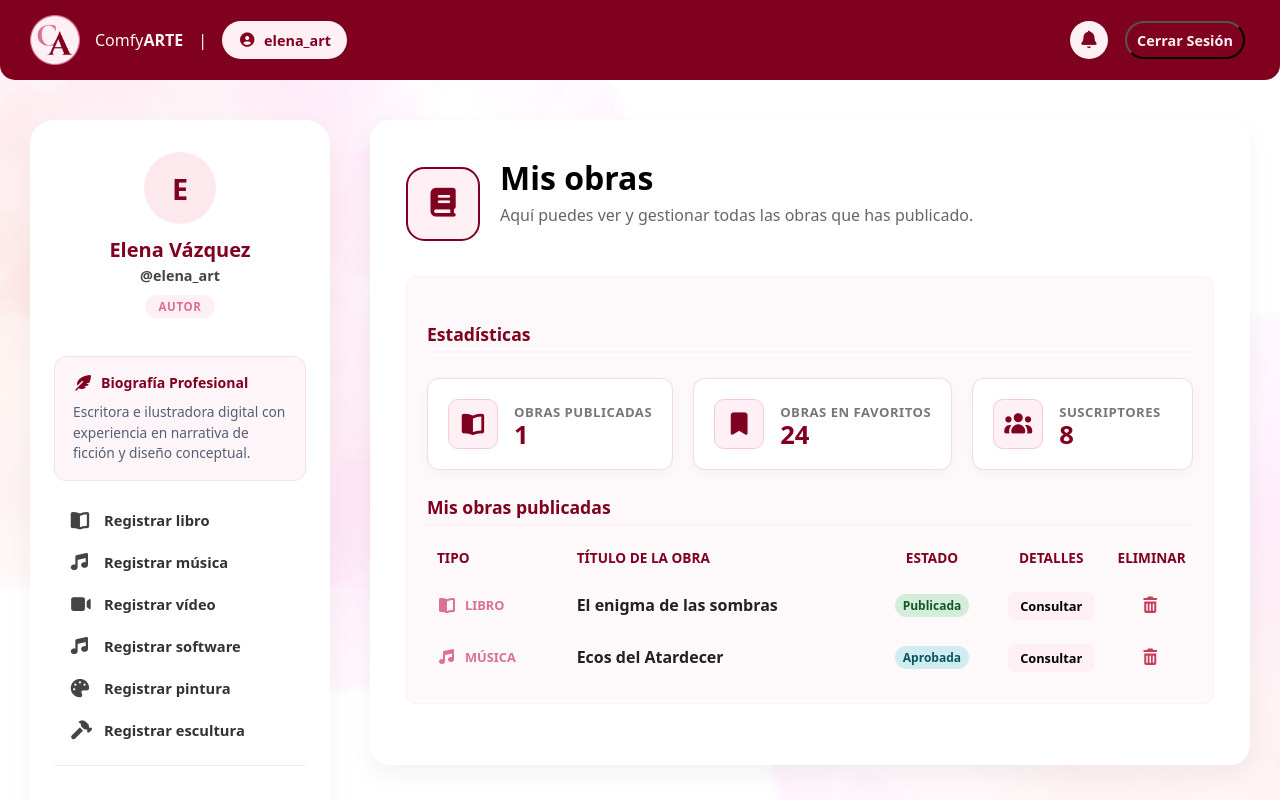
Test: Panel Principal › Vista de Autor › permite eliminar una obra
Click the button with class "btn-delete-plain" in the row of "El enigma de las sombras" at (1150, 605), box [1130,591,1170,619]
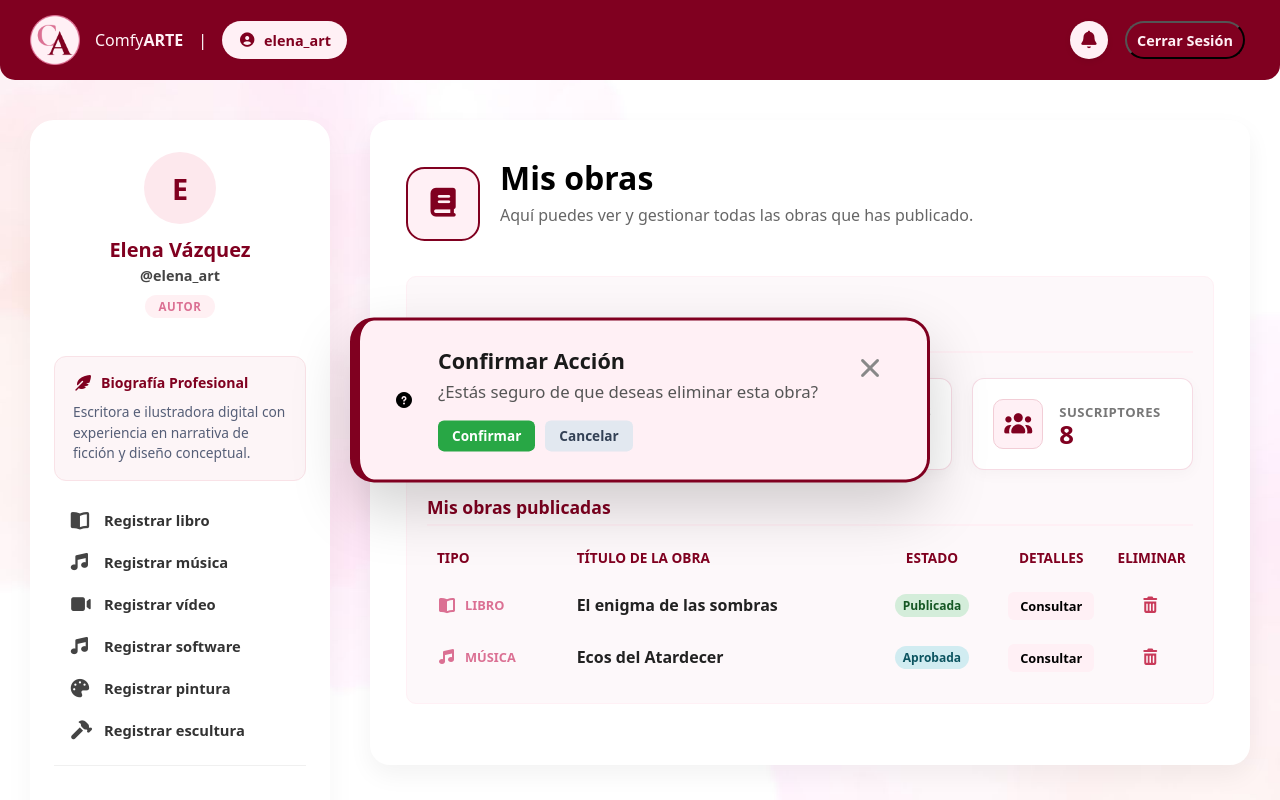
Expected: the element that starts with "Confirmar Acción" is shown, [350,317,930,482]
Expected: the text "¿Estás seguro de que deseas eliminar esta obra?" is shown, [438,380,823,405]
Click the button with class "btn-confirm" at (487, 437), box [438,421,535,452]
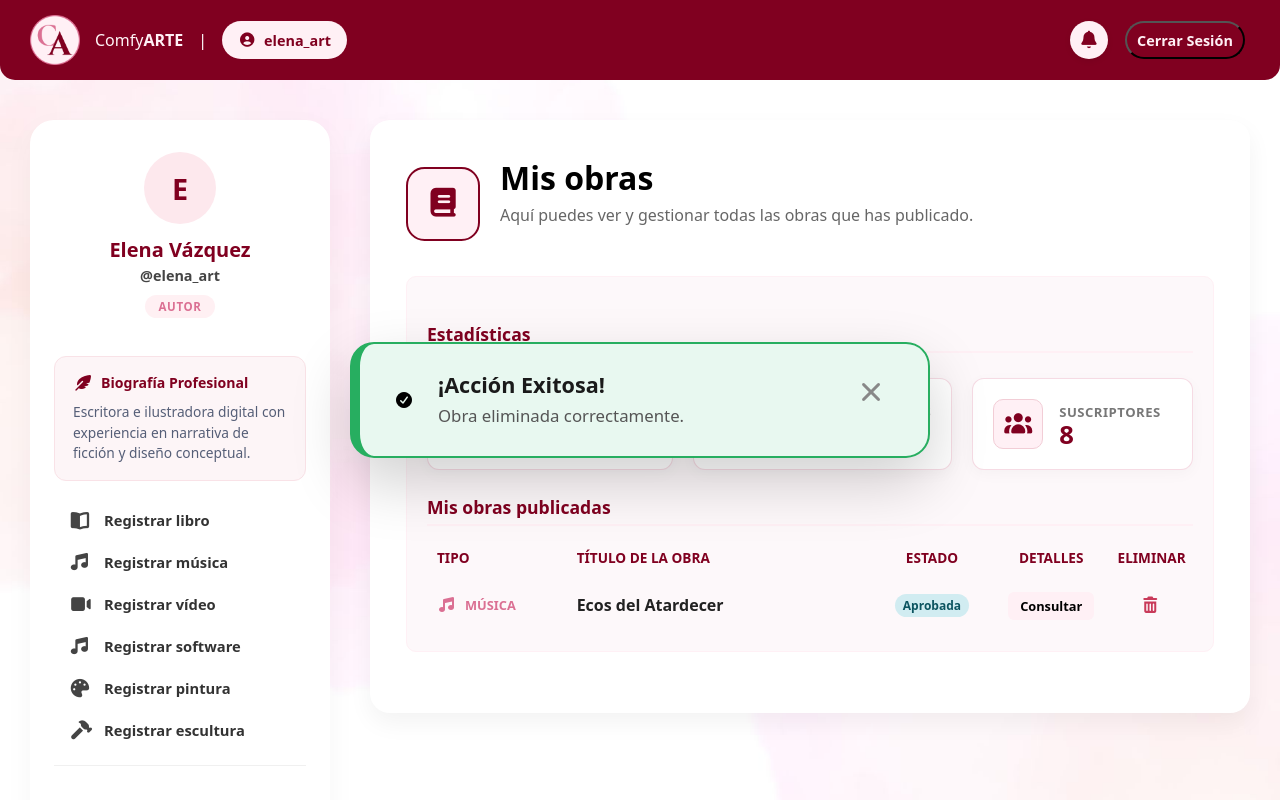
Expected: the element with class "success" is shown, [350,342,930,458]
Expected: the text with class "success" reads "Obra eliminada correctamente.", [438,404,684,427]
Expected: the text "El enigma de las sombras" is gone
